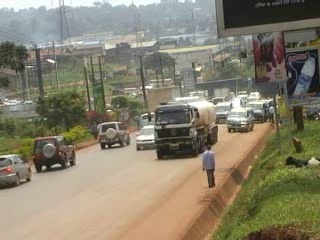Car: (31, 132, 79, 174), (0, 150, 34, 188), (96, 118, 131, 152), (132, 122, 160, 152)
